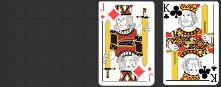JD: (147, 66, 154, 83)
